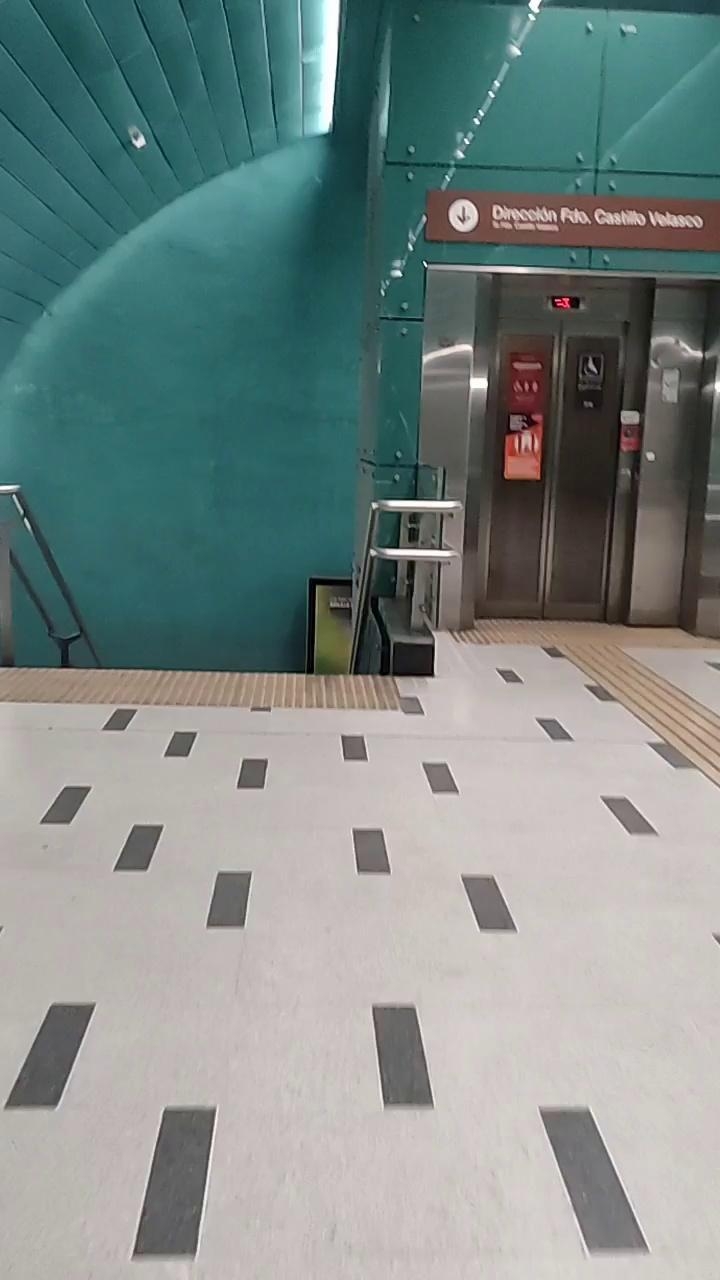down arrow: (444, 196, 489, 238)
handicapped symbol: (572, 355, 608, 388)
